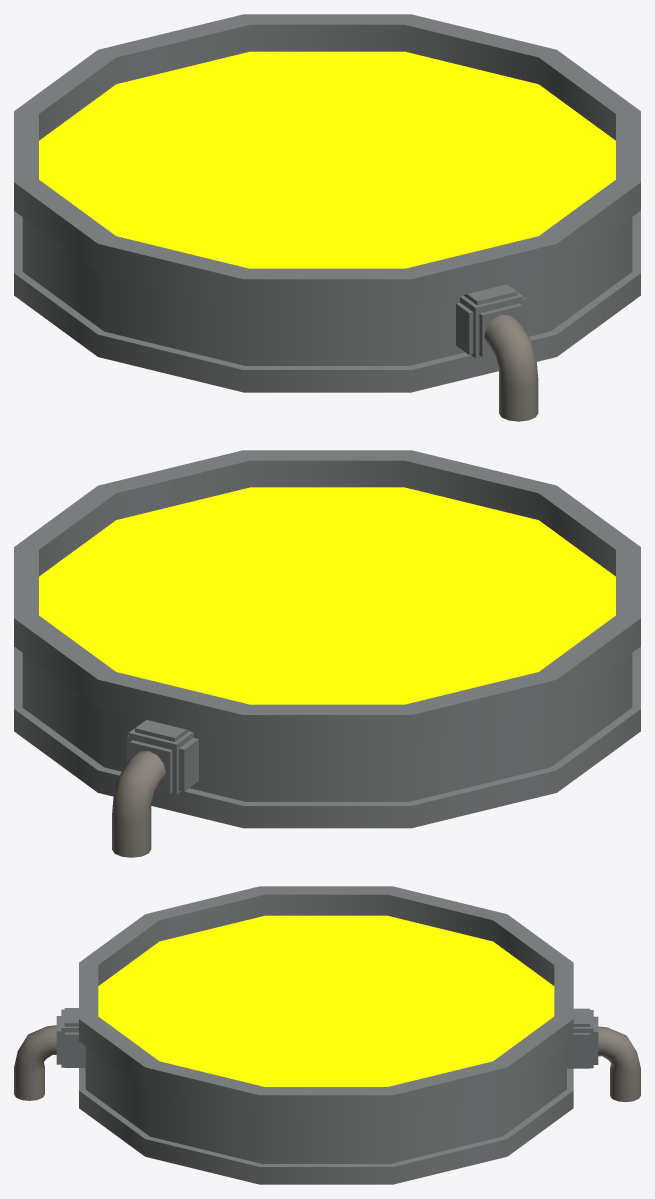
Rendered from Vat_Large.fbx.
3 views of the same model, one above another, from view 1: azimuth 30°, elevation 25°; view 2: azimuth 150°, elevation 25°; view 3: azimuth 270°, elevation 25° (orthographic). The views are drawn at different scales.
Visible parts, largest first — view 1: Vat_Large, pasted__Tube, pasted__Side_io1; view 2: Vat_Large, pasted__Tube, pasted__Side_io1; view 3: Vat_Large, pasted__Tube (×2), pasted__Side_io1 (×2).
Boxes of the visible parts, left/top/right/bottom form: Vat_Large: left=14, top=14, right=640, bottom=392; pasted__Tube: left=484, top=315, right=538, bottom=421; pasted__Side_io1: left=456, top=284, right=526, bottom=358; Vat_Large: left=14, top=450, right=640, bottom=828; pasted__Tube: left=112, top=751, right=165, bottom=857; pasted__Side_io1: left=127, top=720, right=198, bottom=794; Vat_Large: left=79, top=886, right=573, bottom=1184; pasted__Tube (×2): left=14, top=1025, right=640, bottom=1102; pasted__Side_io1 (×2): left=56, top=1008, right=598, bottom=1068.
Bounding box in the file's own units: 351 × 80.01 × 444.
